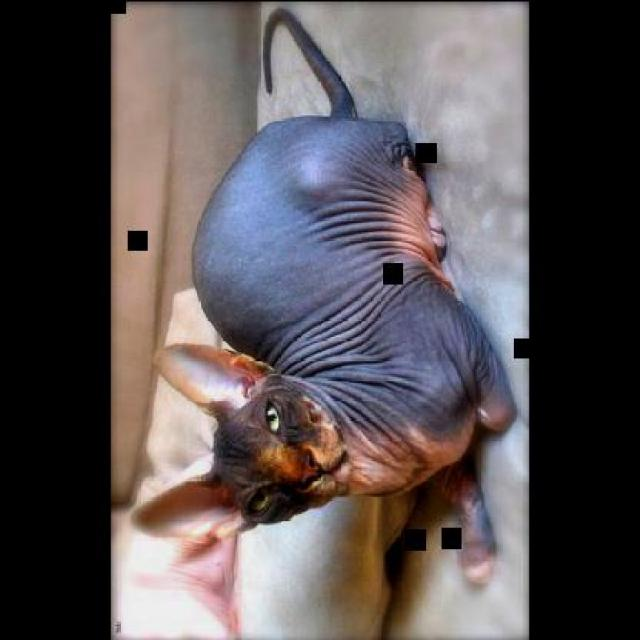unauthorized: (149, 6, 517, 588)
